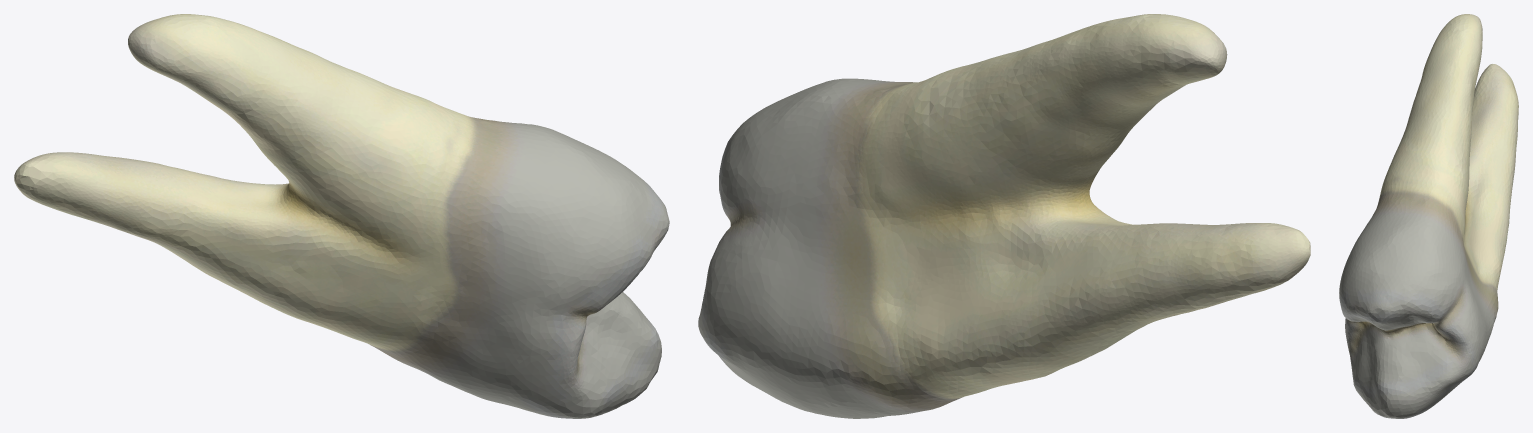
The picture shows the model from 3 angles, left to right: view 1: azimuth 30°, elevation 25°; view 2: azimuth 150°, elevation 25°; view 3: azimuth 270°, elevation 25°; orthographic projection. The views are drawn at different scales.
Visible parts, largest first — view 1: 3MFMeshParent_0; view 2: 3MFMeshParent_0; view 3: 3MFMeshParent_0.
Part boxes in pixels (bbox=[...]): 3MFMeshParent_0: bbox=[14, 14, 669, 418]; 3MFMeshParent_0: bbox=[698, 14, 1310, 418]; 3MFMeshParent_0: bbox=[1339, 14, 1518, 418].
Size of the model in its own units: 0.512 by 0.3744 by 0.2201.
1 material, 1 textured.
